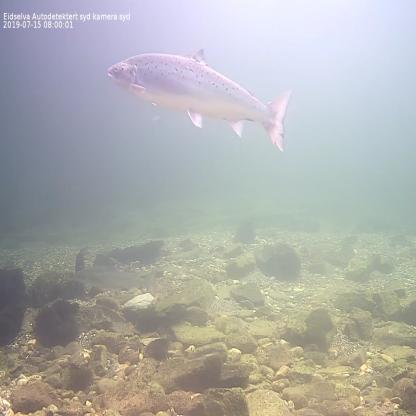salmon: (105, 44, 294, 154), (71, 259, 158, 299)
